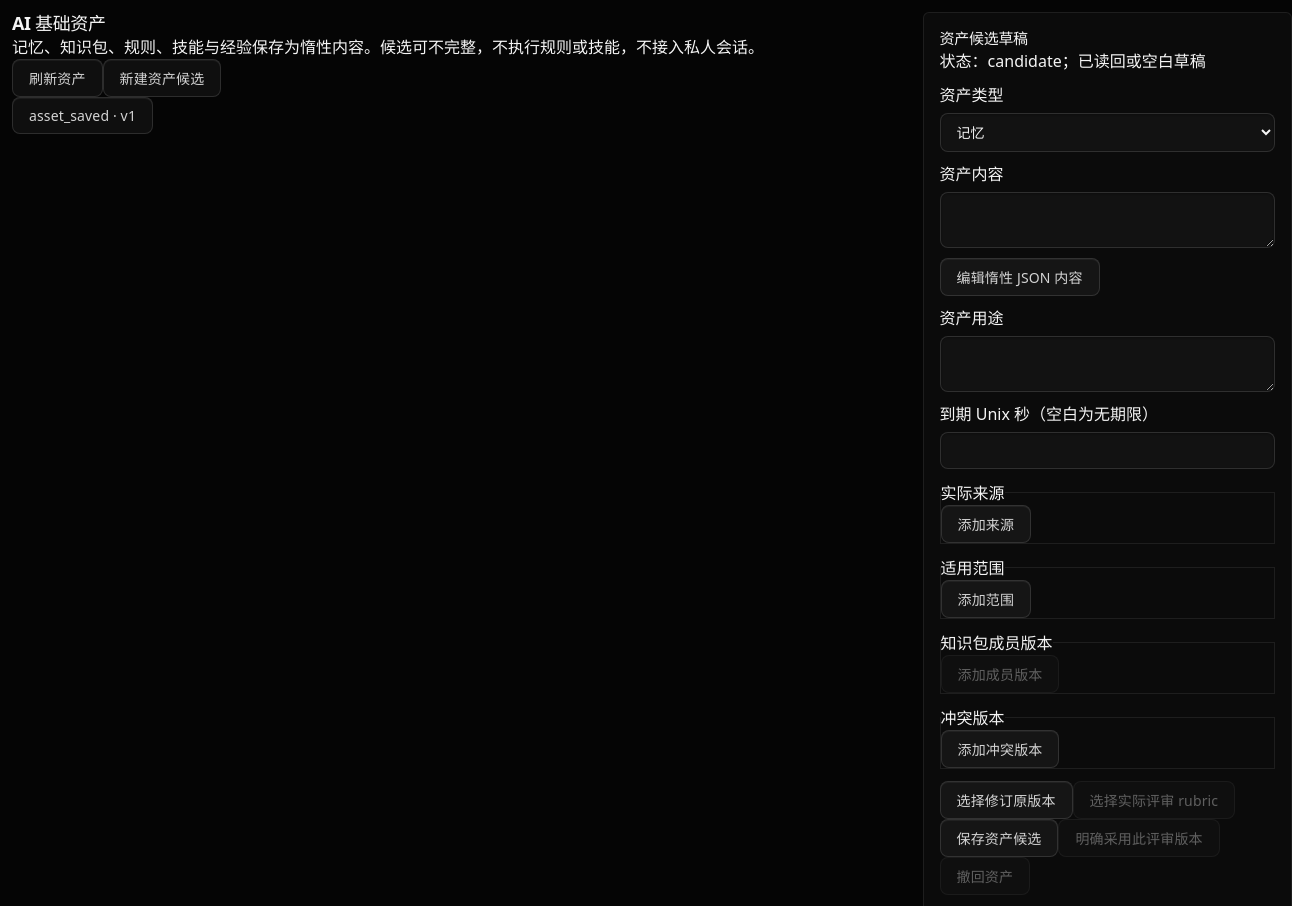
Test: unknown metadata stays readonly without strip or overwrite
This screenshot has width=1292, height=906.
Click the button "asset_saved · v1" at (82, 115), box [12, 96, 153, 134]
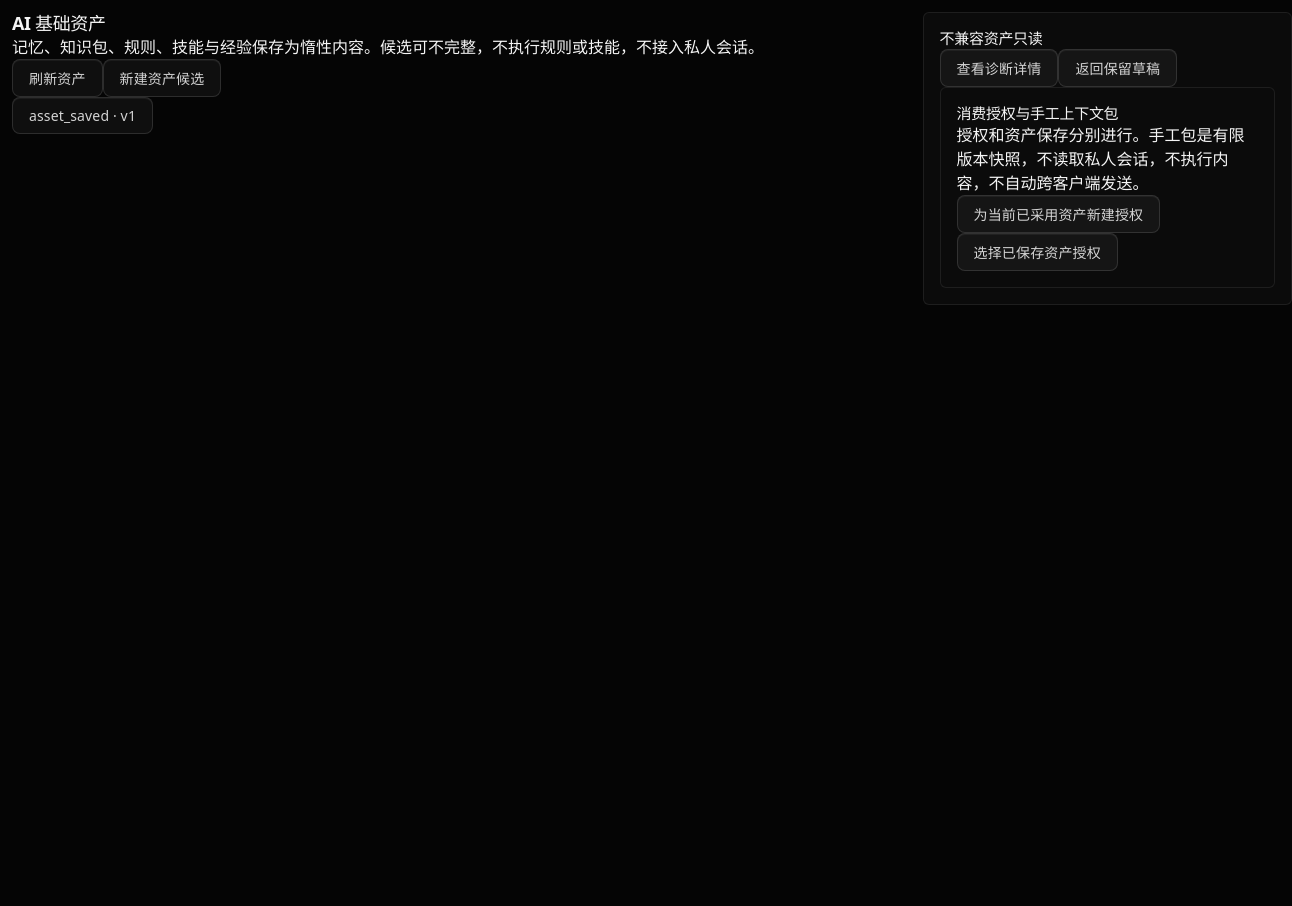
Expected: the heading "不兼容资产只读" is shown, [940, 28, 1042, 48]
Expected: the label labelled "资产内容" is gone
